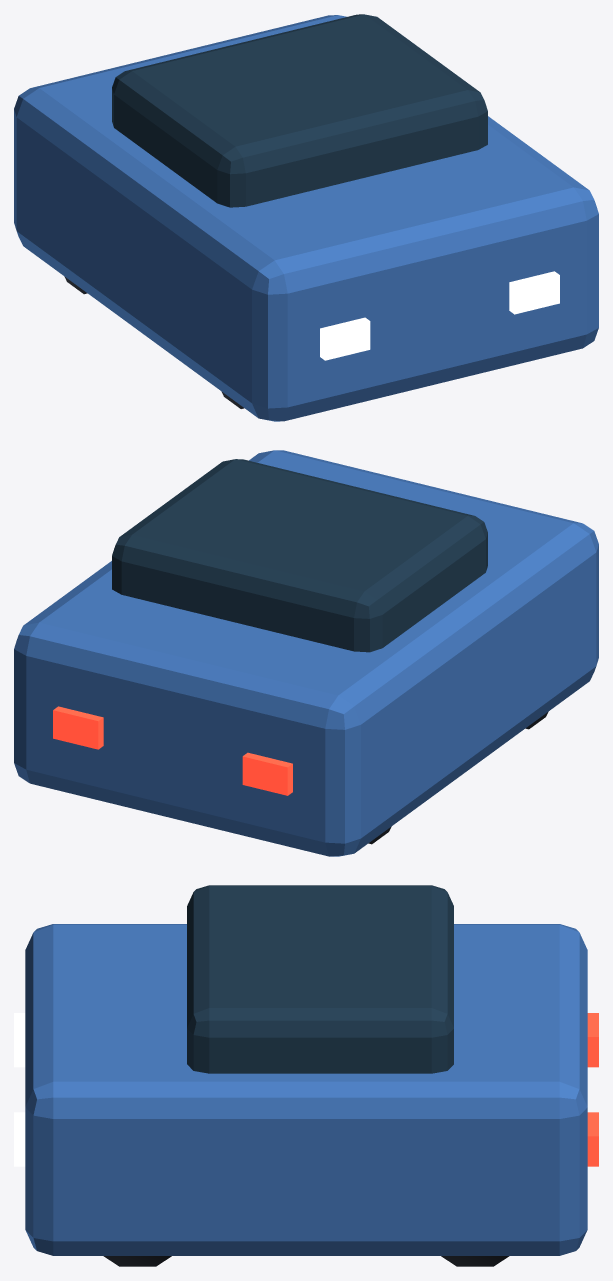
File: hd_sedan.gltf
The picture shows the model from 3 angles, top to bottom: view 1: azimuth 30°, elevation 25°; view 2: azimuth 150°, elevation 25°; view 3: azimuth 270°, elevation 25°; orthographic projection. The views are drawn at different scales.
Parts seen in each view (by area): view 1: body, cab, head-0.41800000000000004, head0.41800000000000004; view 2: body, cab, tail-0.41800000000000004, tail0.41800000000000004; view 3: body, cab, head0.41800000000000004, tail0.41800000000000004, head-0.41800000000000004, tail-0.41800000000000004, wh0.6232_0.6, wh0.6232_-0.6.
Boxes of the visible parts, x1,y1,x2,y2 form: body: [14, 15, 598, 421]; cab: [112, 14, 487, 207]; head-0.41800000000000004: [320, 317, 370, 360]; head0.41800000000000004: [509, 271, 559, 314]; body: [14, 450, 598, 856]; cab: [112, 459, 487, 652]; tail-0.41800000000000004: [242, 752, 292, 795]; tail0.41800000000000004: [53, 706, 103, 749]; body: [25, 924, 587, 1255]; cab: [187, 885, 453, 1073]; head0.41800000000000004: [14, 1112, 25, 1166]; tail0.41800000000000004: [587, 1112, 598, 1166]; head-0.41800000000000004: [14, 1013, 25, 1067]; tail-0.41800000000000004: [587, 1013, 598, 1067]; wh0.6232_0.6: [441, 1256, 509, 1266]; wh0.6232_-0.6: [103, 1256, 171, 1266].
Bounding box in the file's own units: 1.52 × 0.9407 × 2.08.
